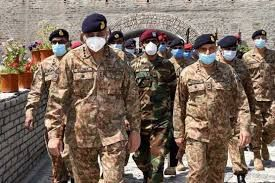uniform: (62, 46, 129, 176), (174, 51, 237, 177), (24, 45, 73, 172), (124, 49, 170, 177), (220, 41, 254, 174), (238, 42, 275, 155)
